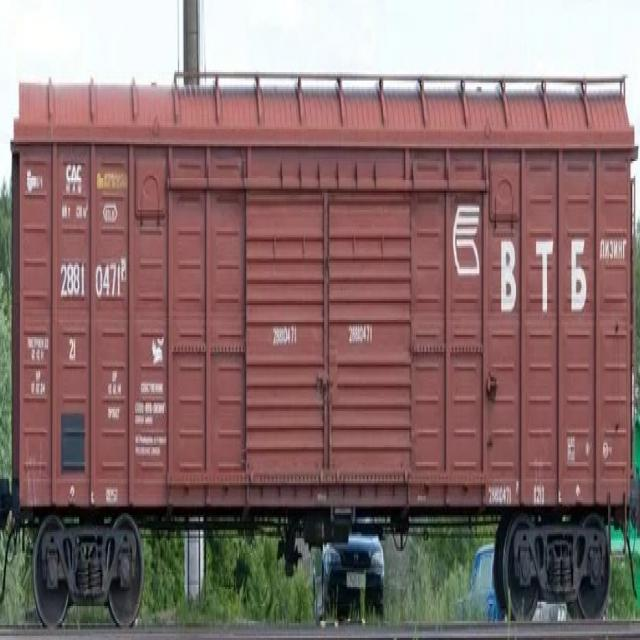boxcar: (8, 46, 640, 640)
